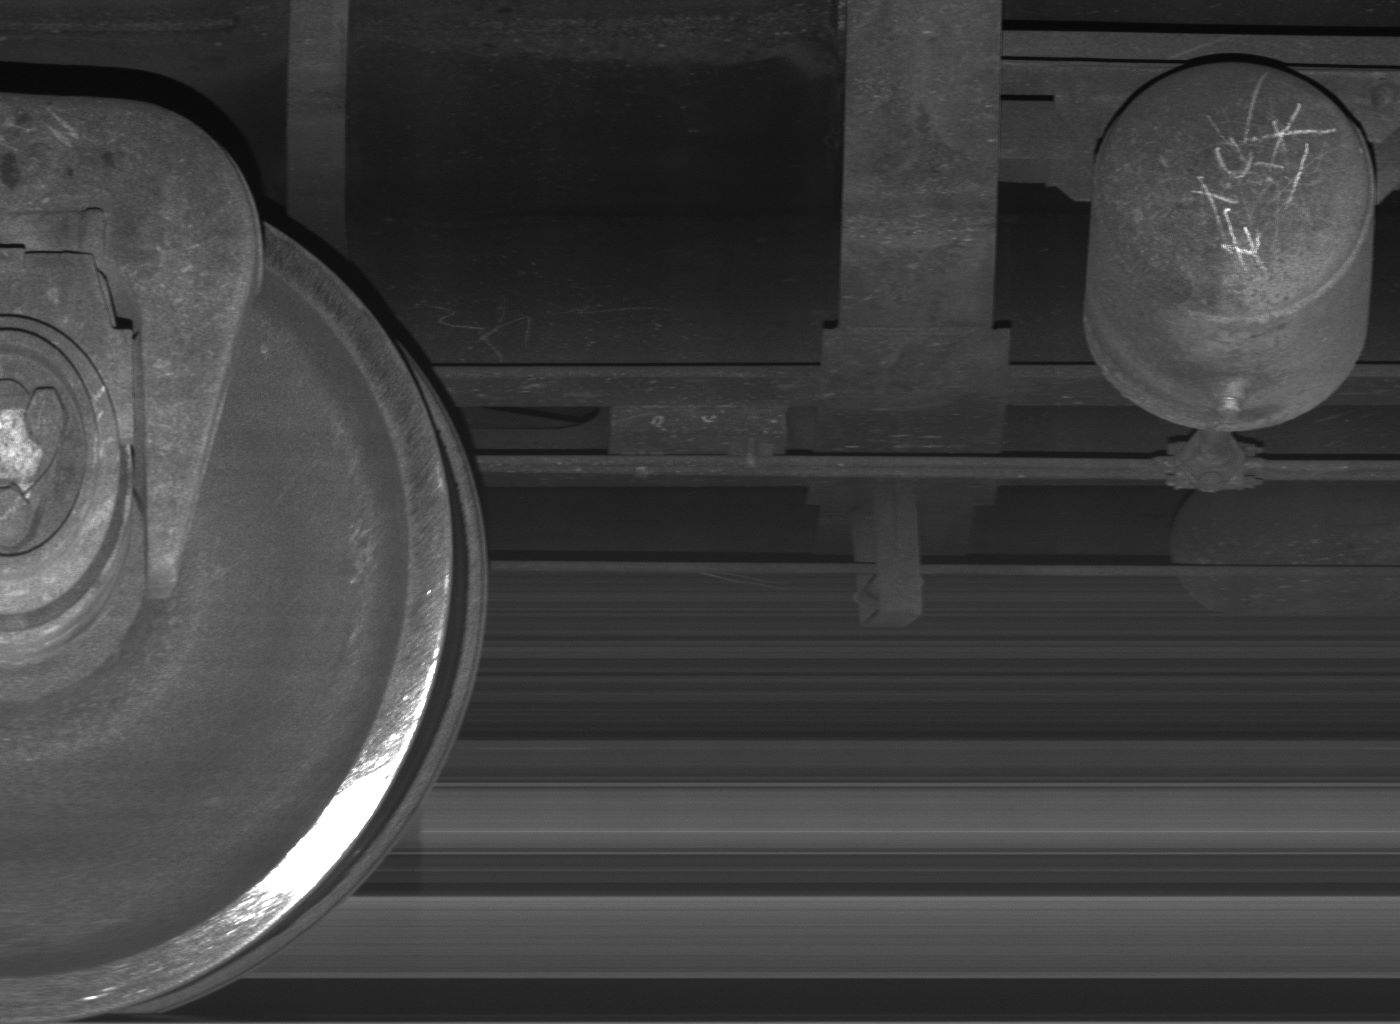normal: (854, 494, 923, 629)
